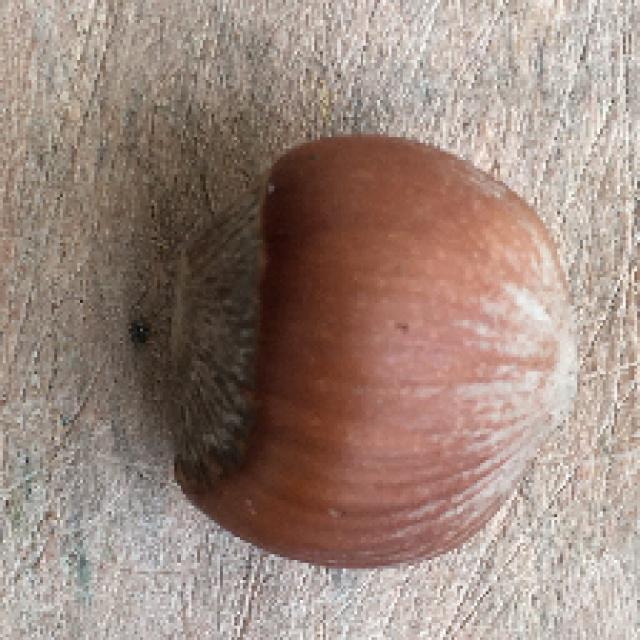damagedHazelnut: (159, 122, 584, 573)
